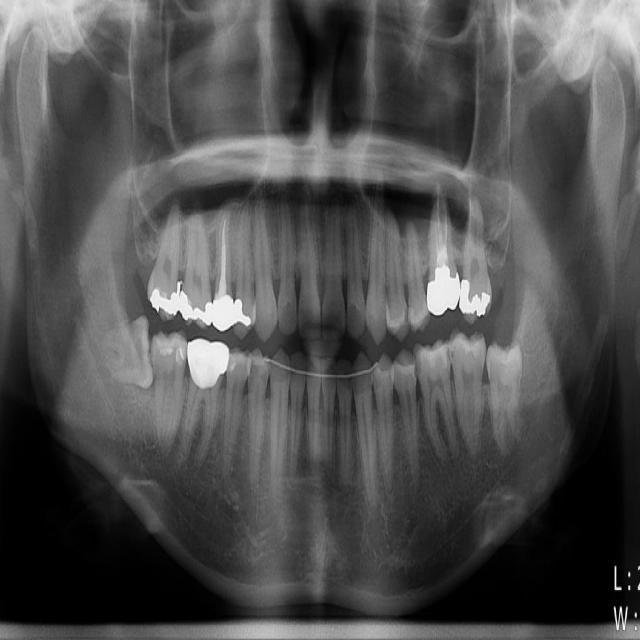52: (184, 335, 231, 391), (453, 272, 499, 326), (172, 282, 220, 331), (423, 271, 465, 317), (147, 272, 179, 323), (230, 297, 257, 341), (212, 295, 234, 333)
73: (416, 183, 458, 279), (213, 207, 233, 298), (617, 576, 622, 584)
BioHorizons Implant: (458, 197, 497, 325)
Biomet 3i Implant: (486, 339, 522, 459)
Blue Sky Bio Implant: (446, 327, 486, 456)
Caries: (146, 198, 181, 321)
Implant: (148, 327, 195, 457)
Keystone Dental Implant: (99, 314, 155, 393)
